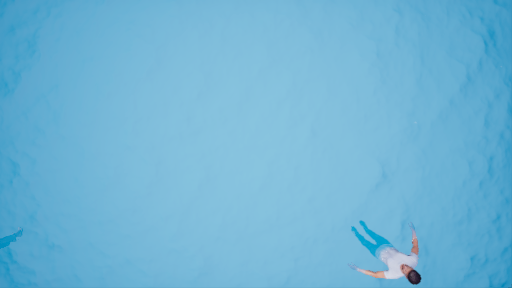person: (338, 211, 427, 288)
